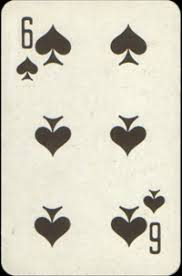six of spades: (2, 3, 182, 273)
